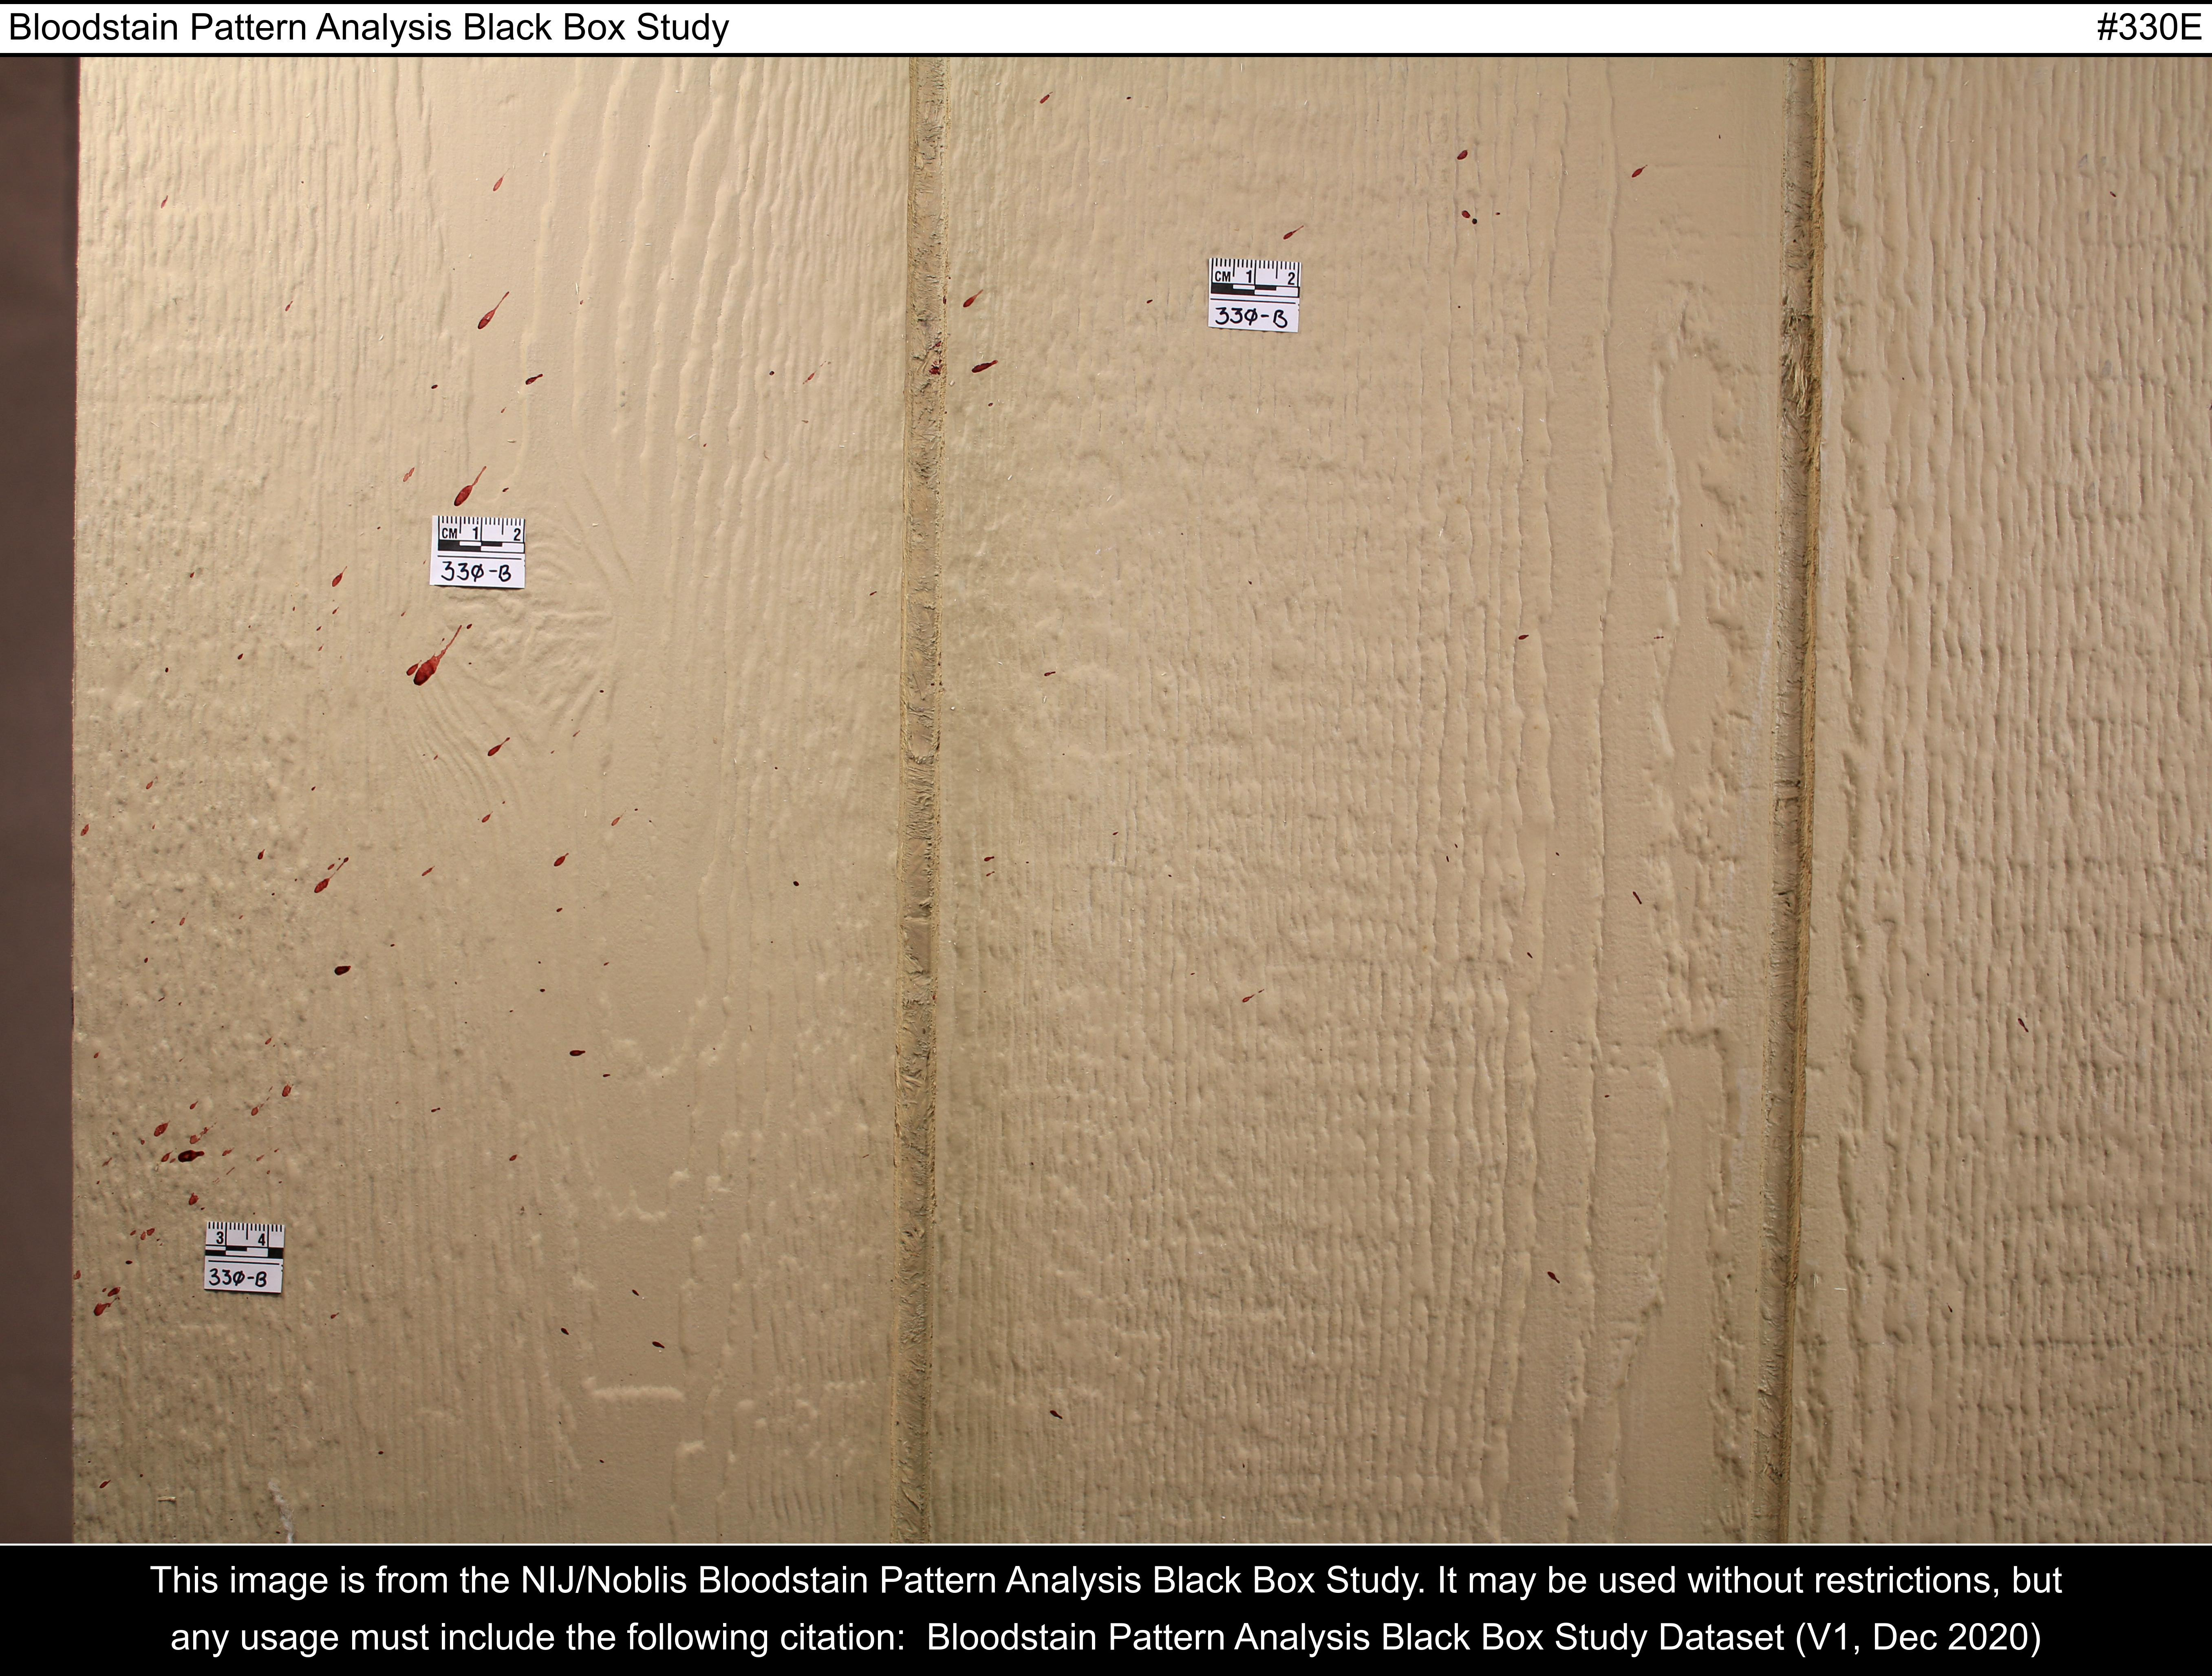Impact: (81, 104, 703, 1370)
